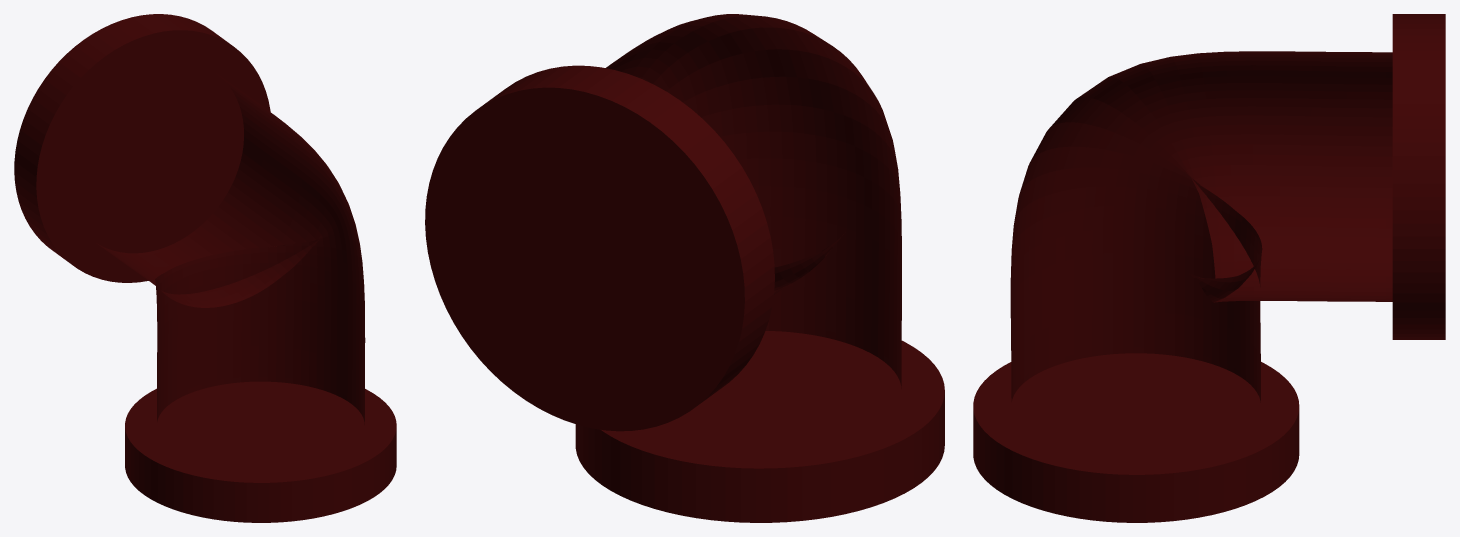
File: pip_turn.glb
3 views of the same model, side by side, from view 1: azimuth 30°, elevation 25°; view 2: azimuth 150°, elevation 25°; view 3: azimuth 270°, elevation 25° (orthographic). The views are drawn at different scales.
Parts seen in each view (by area): view 1: Cylinder.001; view 2: Cylinder.001; view 3: Cylinder.001.
Boxes of the visible parts, <box> form: Cylinder.001: <box>14,14,396,522</box>; Cylinder.001: <box>425,14,944,522</box>; Cylinder.001: <box>973,14,1445,522</box>.
Size of the model in its own units: 2.61 by 3.75 by 3.78.
